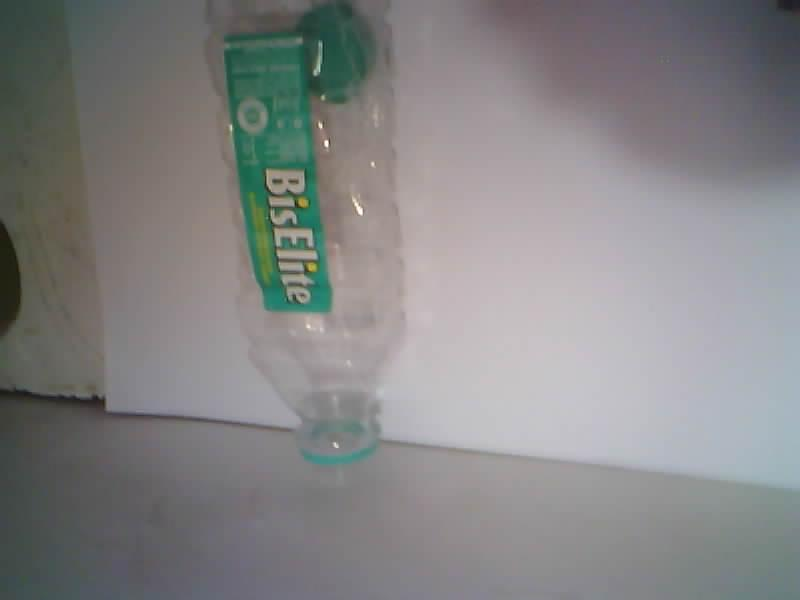non-biodegradable: (209, 0, 404, 473)
